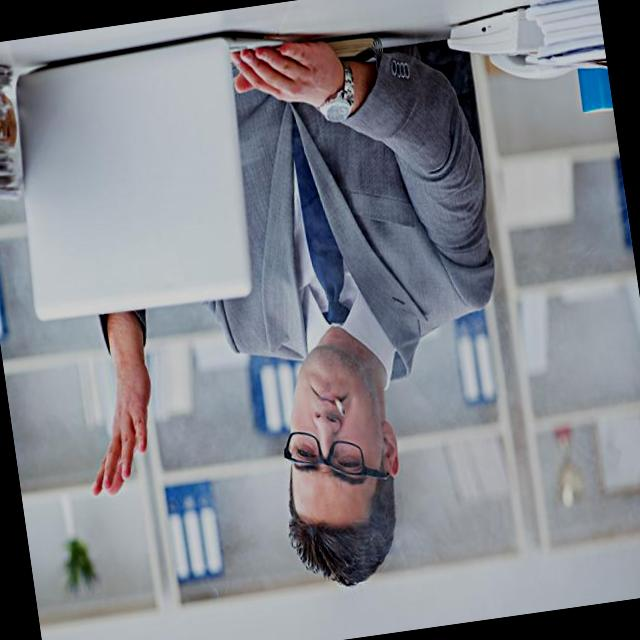smoke: (331, 393, 350, 422)
